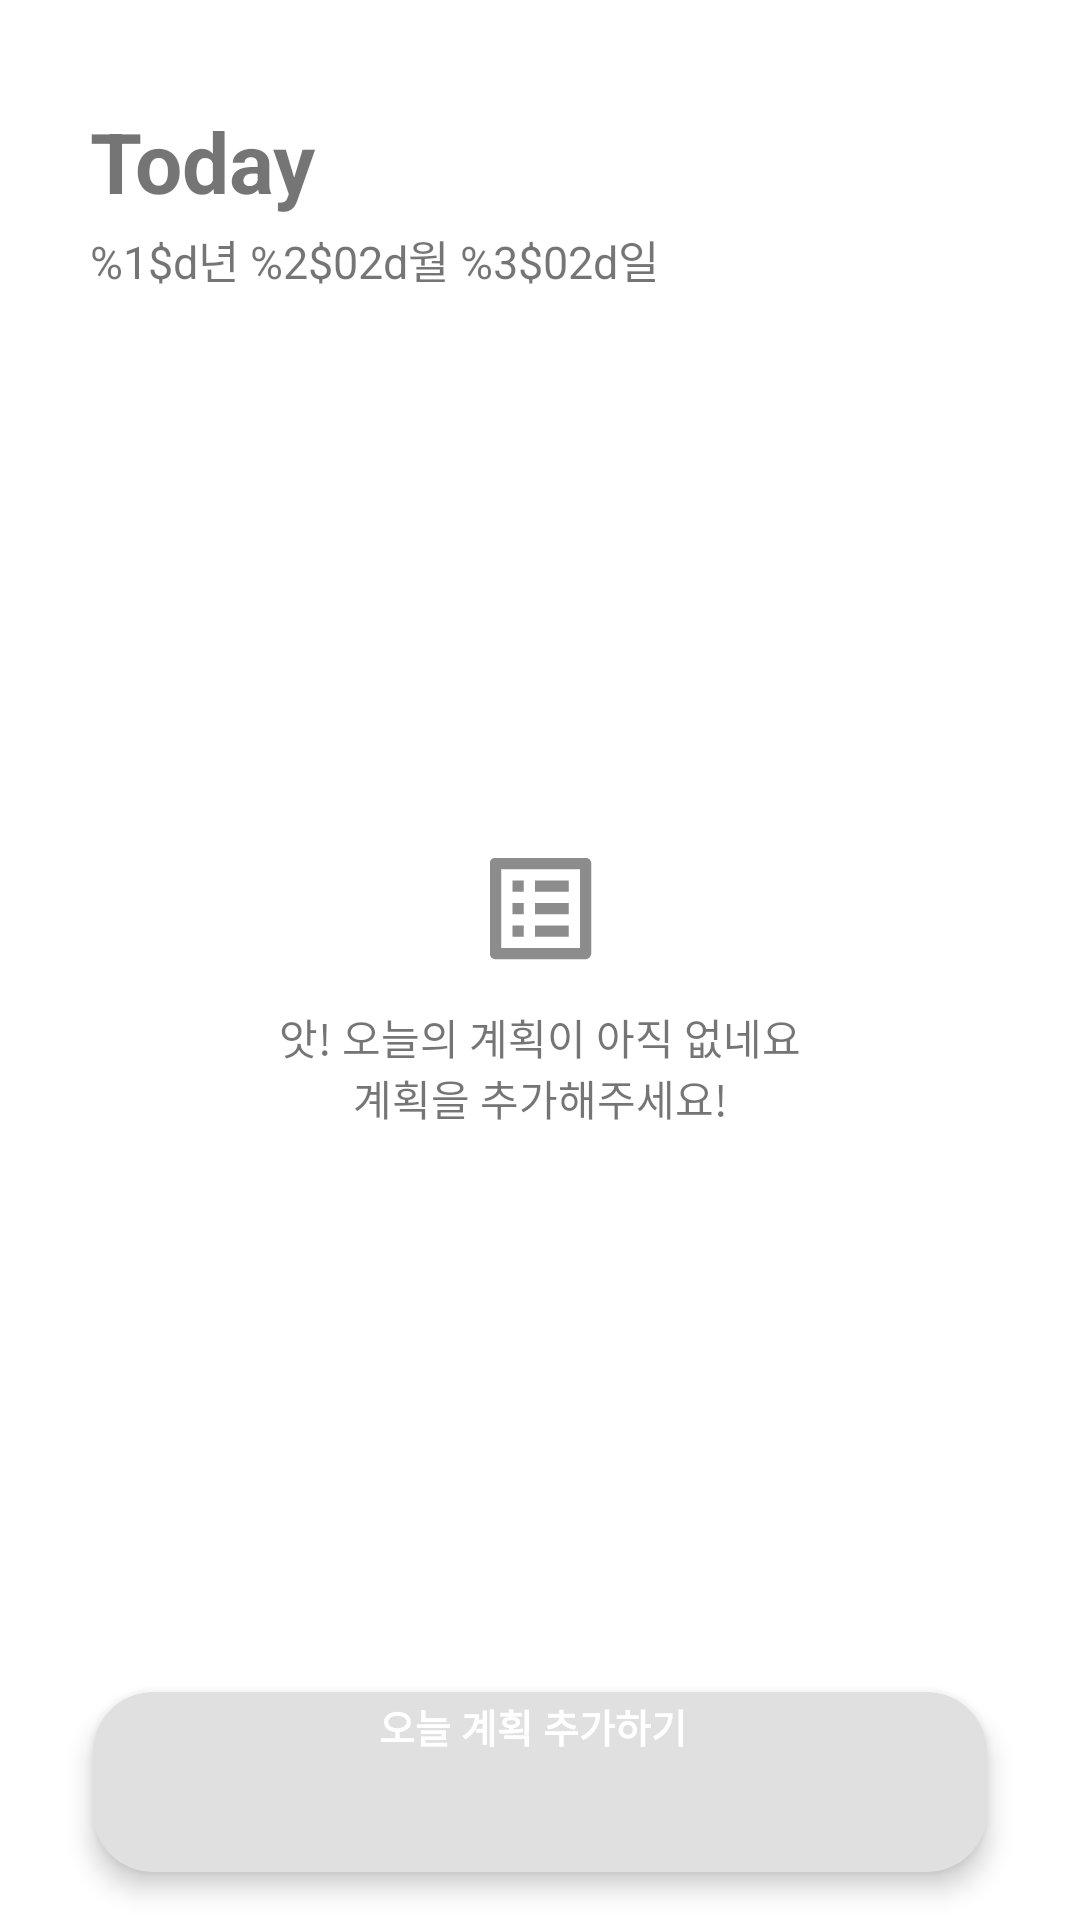

Named icons in this screenshot (1080 x 1920) and their centers, [x,y]:
list: [541,909]
